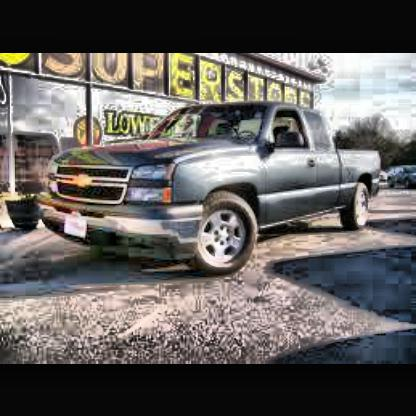Chevrolet Silverado 1500 Classic Extended Cab 2007: (38, 103, 383, 278)
